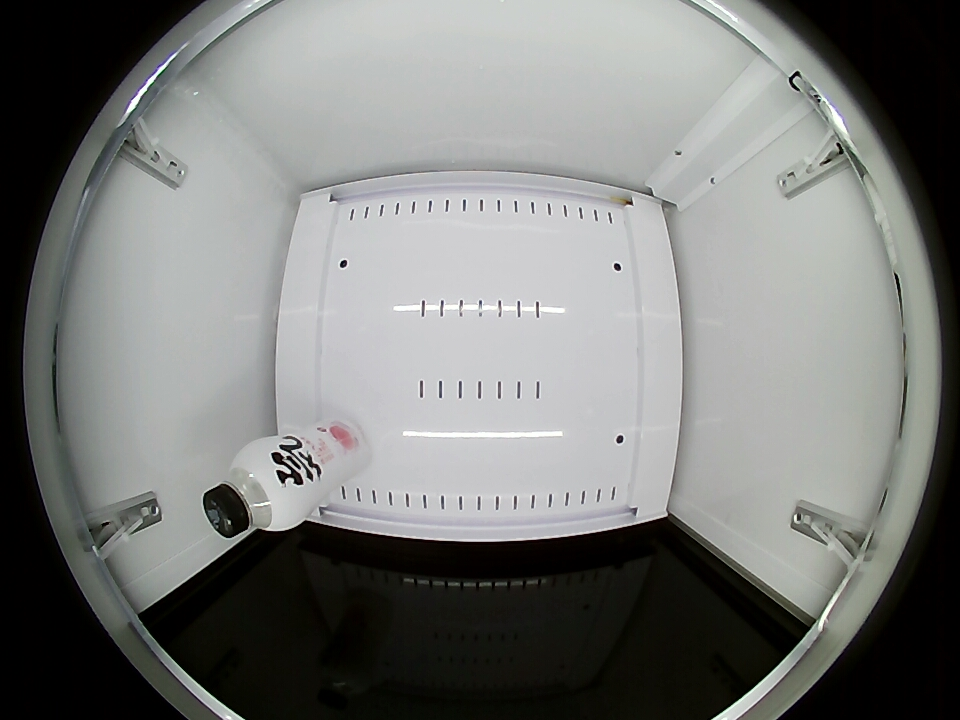yuanqishui: (202, 442, 305, 539)
